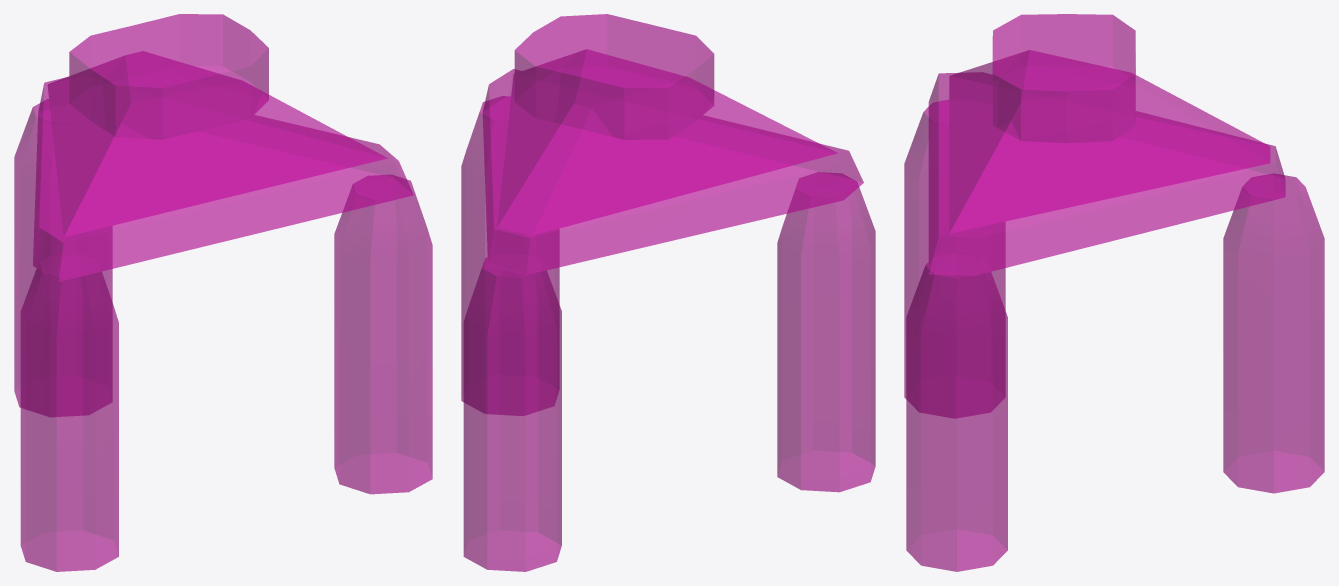
File: SM_Prop_Satellite_Large_01_Collision.fbx
The picture shows the model from 3 angles, left to right: view 1: azimuth 30°, elevation 25°; view 2: azimuth 150°, elevation 25°; view 3: azimuth 270°, elevation 25°; orthographic projection.
Visible parts, largest first — view 1: SM_Prop_Satellite_Large_01_Collision; view 2: SM_Prop_Satellite_Large_01_Collision; view 3: SM_Prop_Satellite_Large_01_Collision.
Part boxes in pixels (<box>): SM_Prop_Satellite_Large_01_Collision: <box>14,14,432,571</box>; SM_Prop_Satellite_Large_01_Collision: <box>461,14,875,571</box>; SM_Prop_Satellite_Large_01_Collision: <box>904,14,1324,571</box>.
Size of the model in its own units: 1386 by 1388 by 1256.
